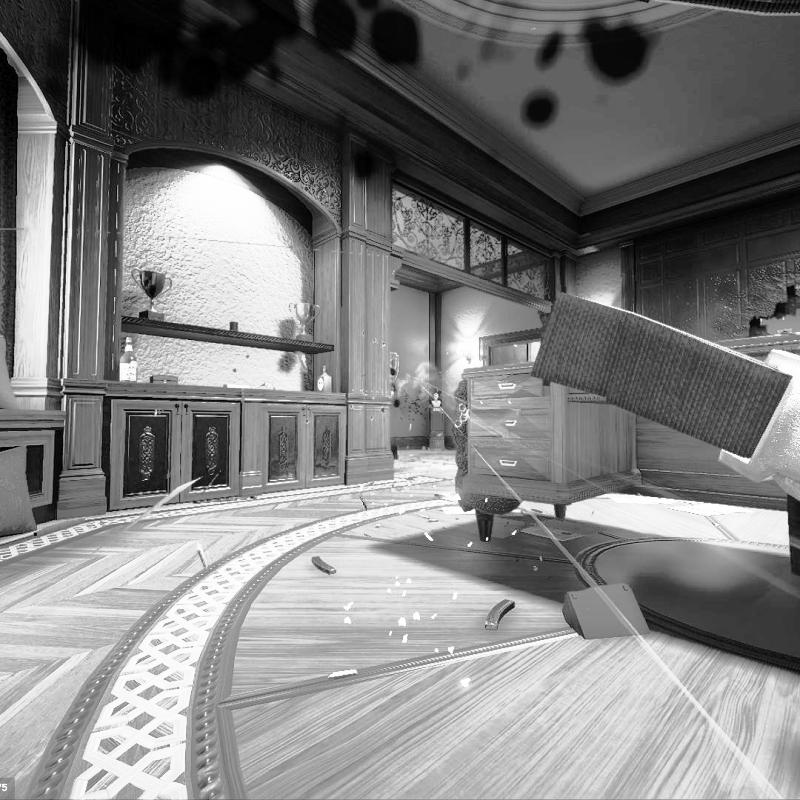Character: (386, 363, 412, 462)
Head: (389, 366, 399, 383)
